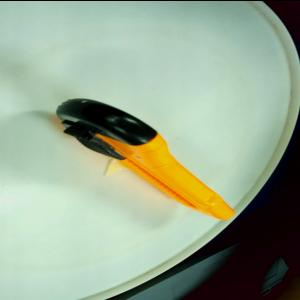estilete: (53, 97, 235, 220)
